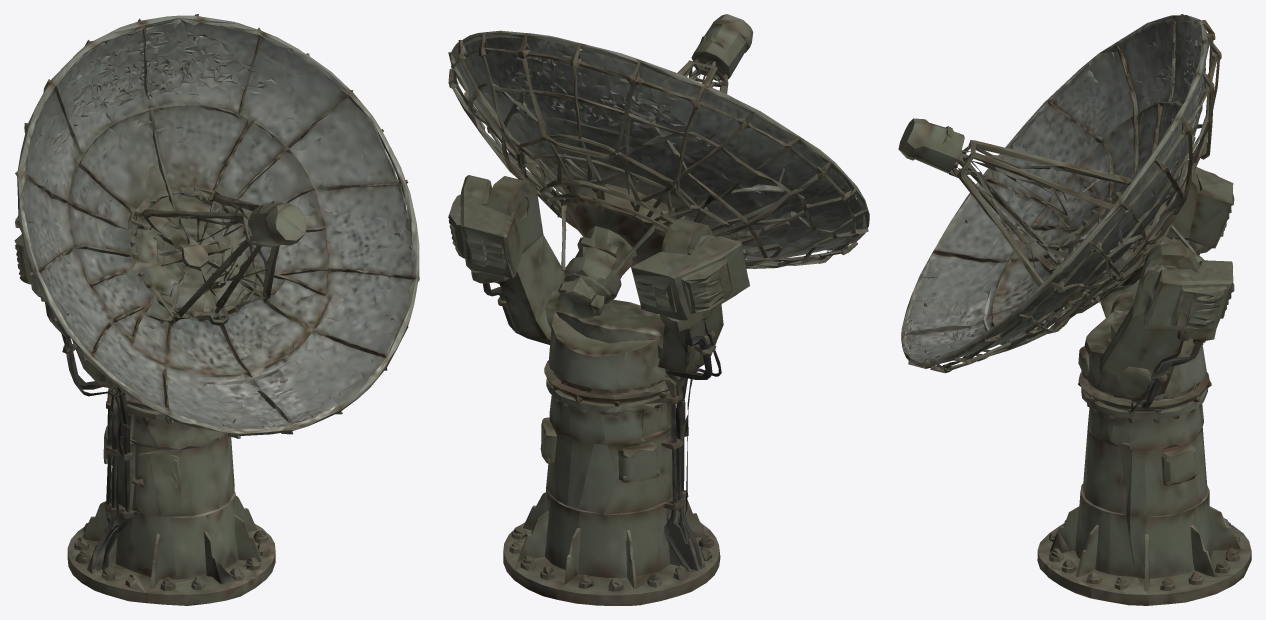
File: radar_dish.5b15982721.glb
3 renders of one model, left to right at view 1: azimuth 30°, elevation 25°; view 2: azimuth 150°, elevation 25°; view 3: azimuth 270°, elevation 25°, orthographic. The views are drawn at different scales.
Parts seen in each view (by area): view 1: radar_dish; view 2: radar_dish; view 3: radar_dish.
Part boxes in pixels (x1,y1,x2,y2): radar_dish: [14, 14, 419, 605]; radar_dish: [448, 14, 869, 605]; radar_dish: [898, 14, 1251, 605].
Bounding box in the file's own units: 6.07 × 8 × 4.9.
1 material, 1 textured.
